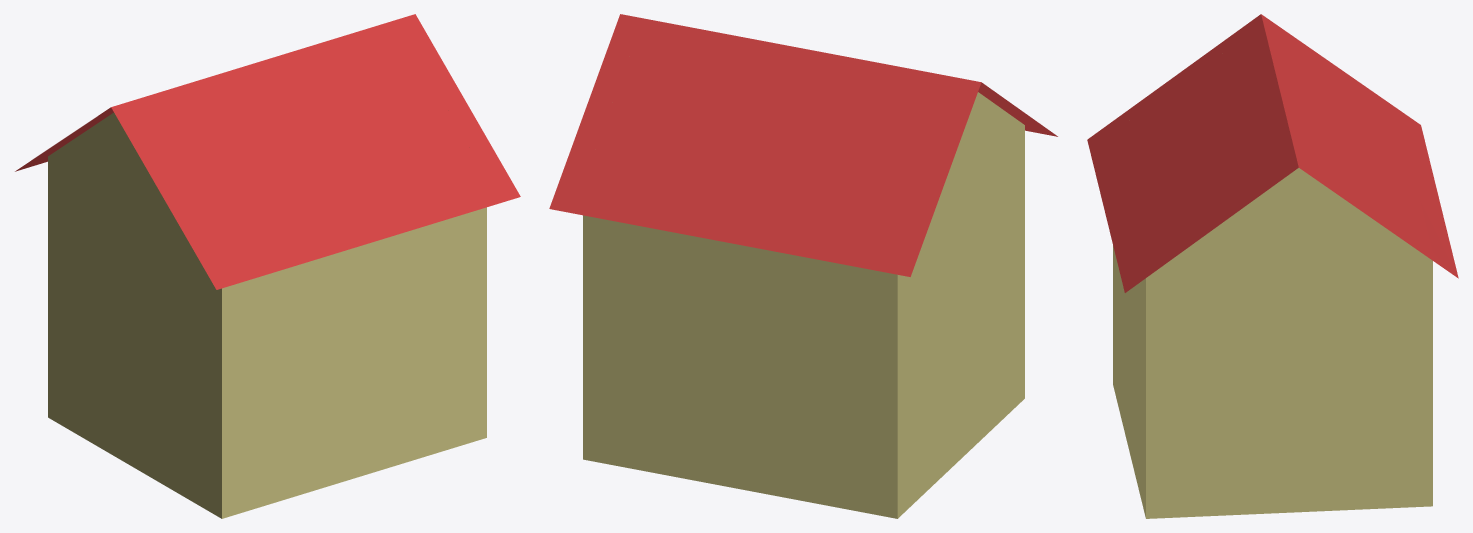
3 renders of one model, left to right at view 1: azimuth 30°, elevation 25°; view 2: azimuth 150°, elevation 25°; view 3: azimuth 270°, elevation 25°, orthographic. The views are drawn at different scales.
Bounding box in the file's own units: 12.65 × 11.8 × 12.43.
